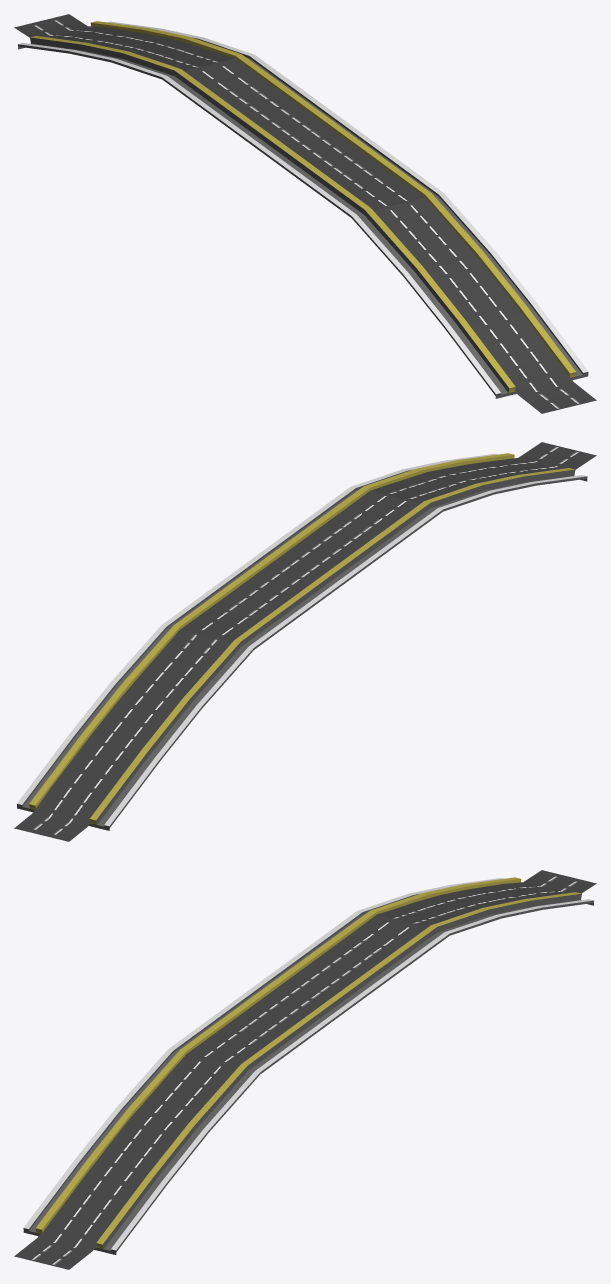
3 views of the same model, one above another, from view 1: azimuth 30°, elevation 25°; view 2: azimuth 150°, elevation 25°; view 3: azimuth 330°, elevation 25° (orthographic).
Parts seen in each view (by area): view 1: pPlane8, pPlane3; view 2: pPlane8, pPlane3; view 3: pPlane8, pPlane3.
Part boxes in pixels (box(x1,y1,x2,y2)): pPlane8: box(14, 14, 596, 413); pPlane3: box(18, 21, 588, 398); pPlane8: box(14, 442, 596, 841); pPlane3: box(17, 453, 587, 830); pPlane8: box(14, 870, 596, 1269); pPlane3: box(23, 877, 594, 1254).
Size of the model in its own units: 1015 by 848 by 10008.
Materials: 4 (1 with a texture image).
